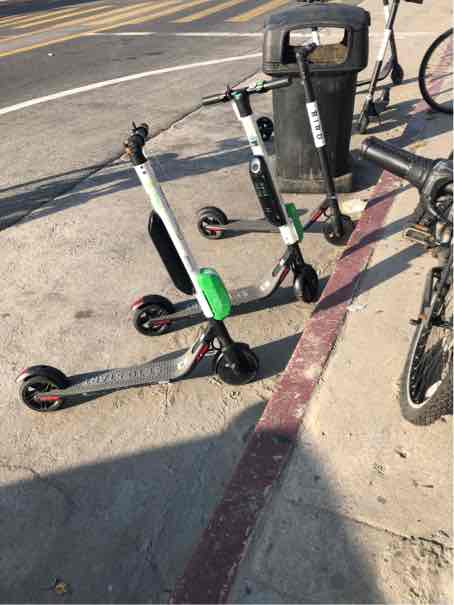scooter: (13, 116, 265, 421), (130, 76, 325, 341)
